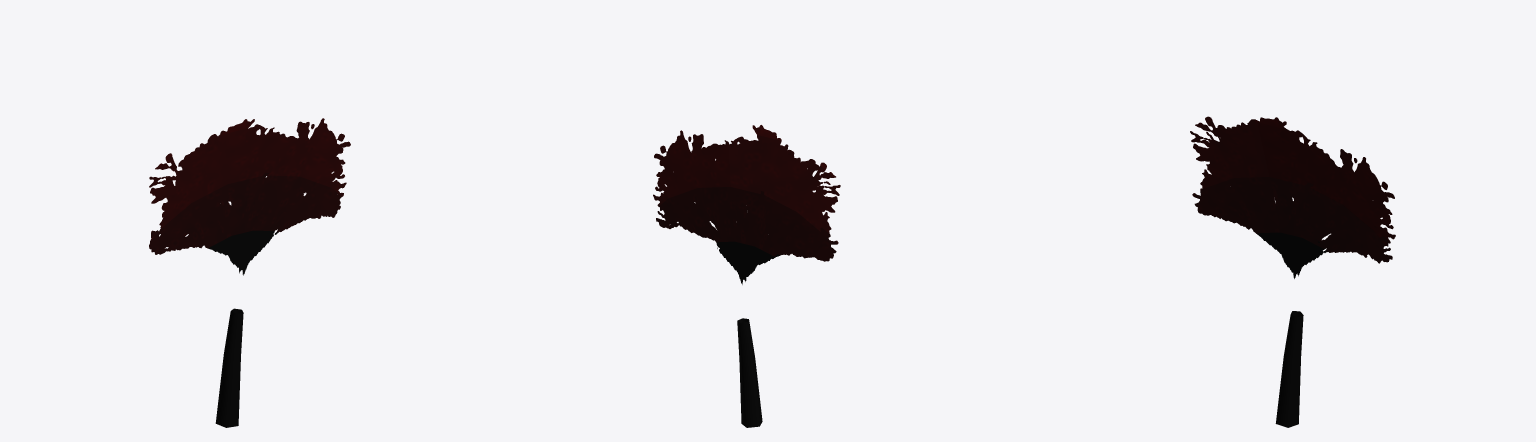
The model's file is plant_shallows_coral_fan_a.glb.
3 renders of one model, left to right at view 1: azimuth 30°, elevation 25°; view 2: azimuth 150°, elevation 25°; view 3: azimuth 330°, elevation 25°, orthographic. The views are drawn at different scales.
Parts seen in each view (by area): view 1: plant_shallows_coral_fan_a; view 2: plant_shallows_coral_fan_a; view 3: plant_shallows_coral_fan_a.
Boxes of the visible parts, x1,y1,x2,y2 form: plant_shallows_coral_fan_a: (149,118,350,427); plant_shallows_coral_fan_a: (653,125,840,427); plant_shallows_coral_fan_a: (1190,116,1395,427).
Size of the model in its own units: 0.7483 by 0.6034 by 0.086.
1 material, 1 textured.
